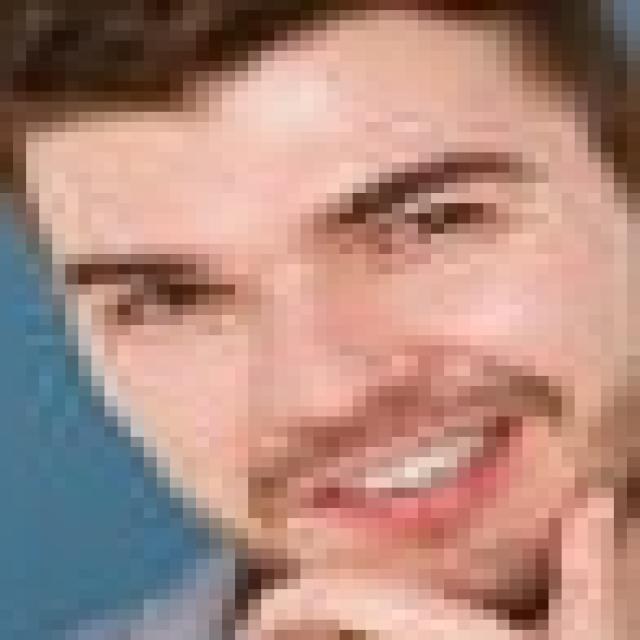Anxiety: (23, 20, 636, 611)
